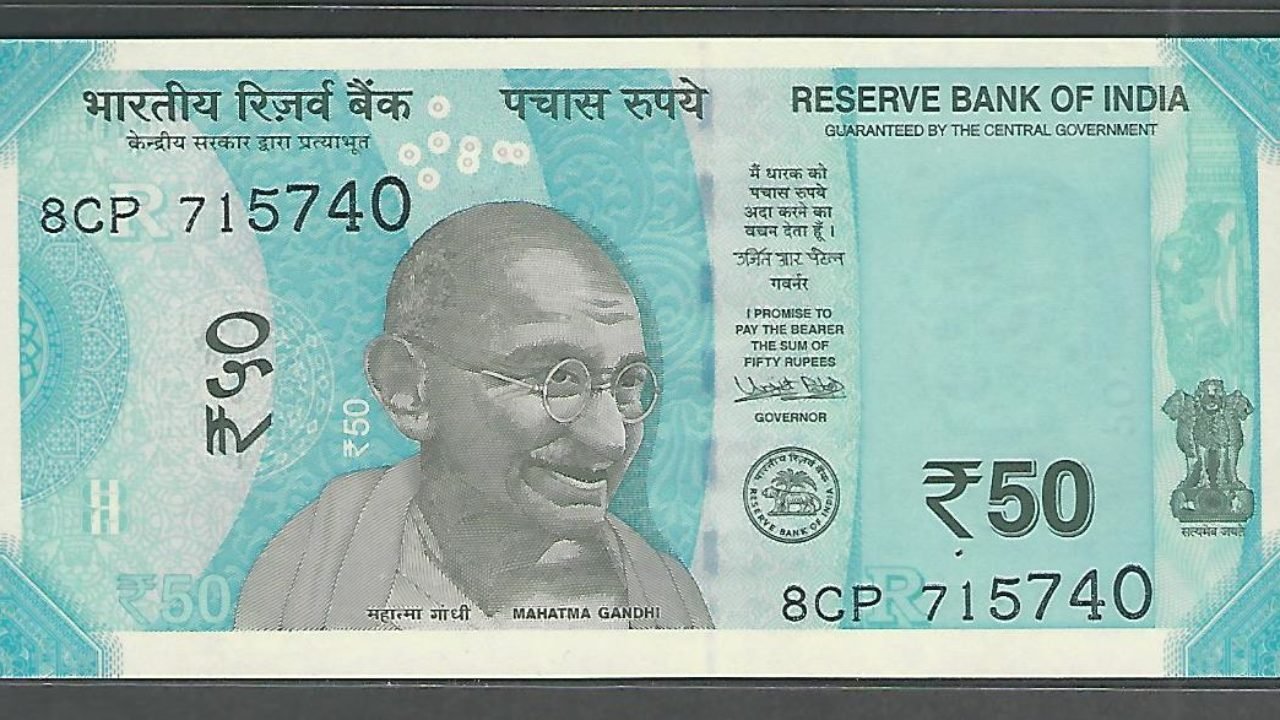fifty: (45, 170, 1190, 576)
